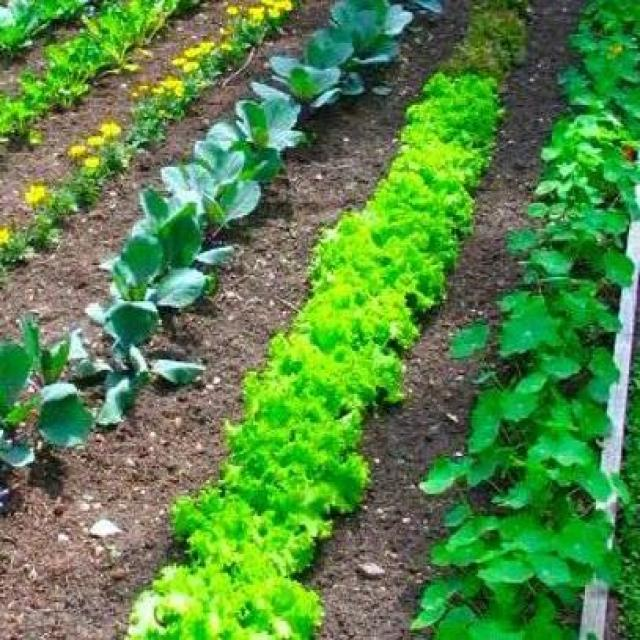row: (0, 0, 484, 640), (288, 0, 595, 640), (0, 0, 337, 370), (0, 1, 241, 217), (0, 1, 122, 95)
